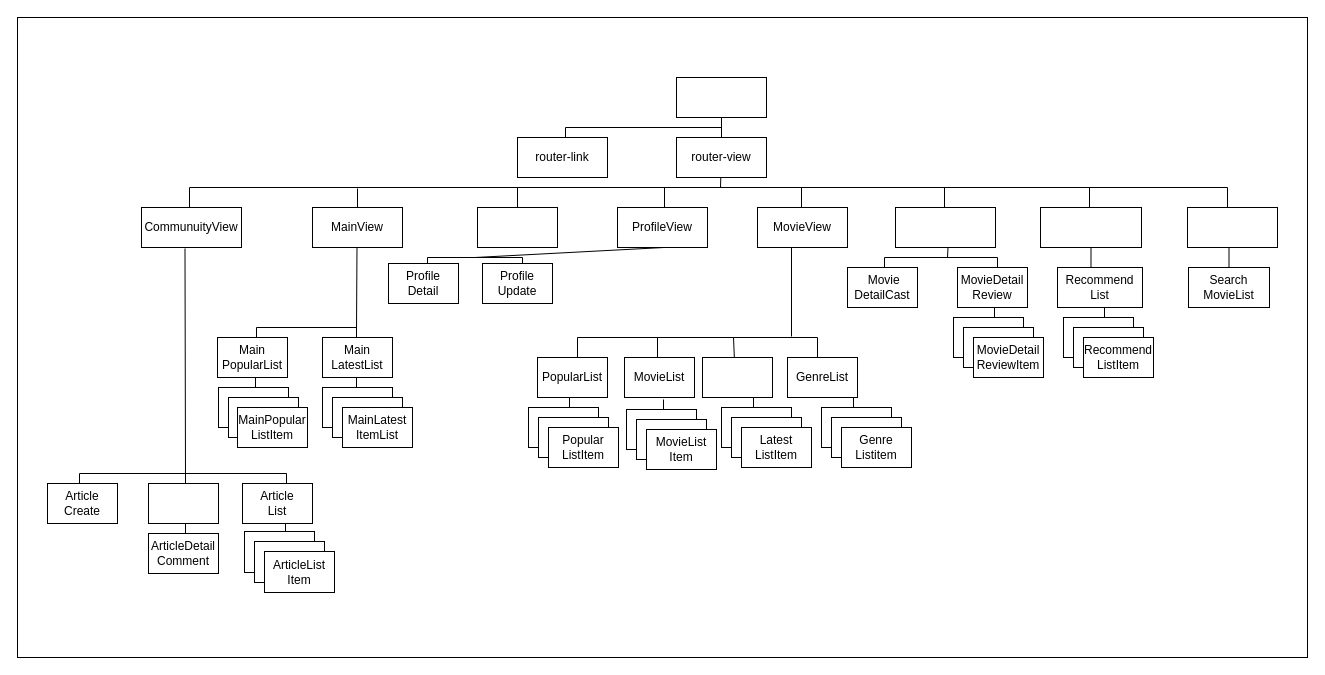
Image size: 1325x675. Some labels were removed from this diagram. The centre of each missing label's shape, as x and y in pixels:
APP: [721,97]
Article Detail: [183,503]
LatestList: [737,377]
LoginView: [517,227]
MovieDetailView: [945,227]
RecommendView: [1091,227]
SearchView: [1232,227]
